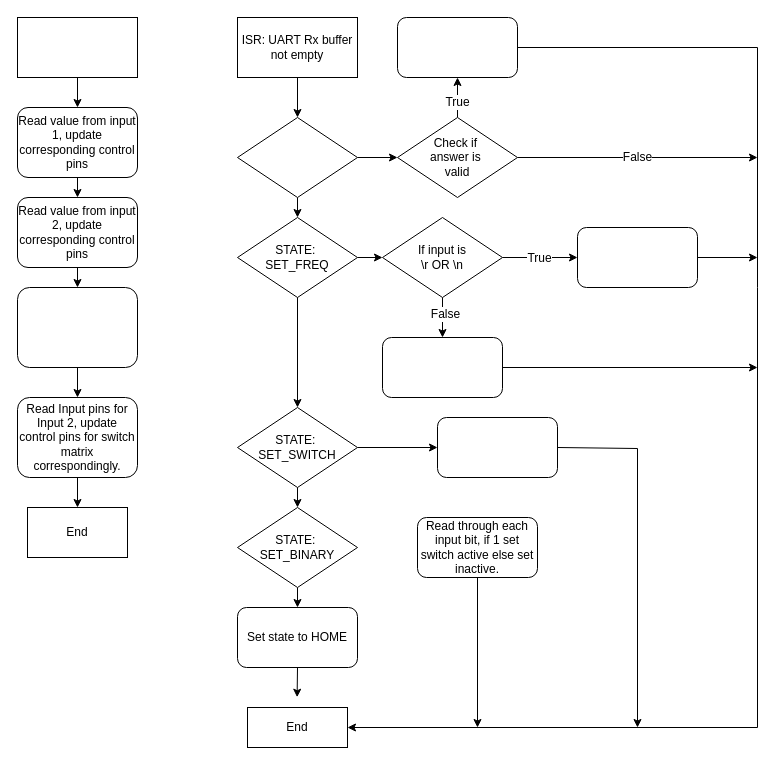
Image size: 783x765. Some labels were removed from this diagram. Here are the shapes that lost their labels. From the top down, the centre of each, then its label:
At pixel 77 47: "ISR: Trigger on rising clock edge".
At pixel 457 47: "Update the state based on the input".
At pixel 297 157: "STATE: HOME".
At pixel 637 257: "Set stored value to wait time. Rest val. to 0 and STATE=HOME".
At pixel 77 327: "update control pins for the output switches, corresponding to input 1 & 2".
At pixel 442 367: "Multiply stored value by 10, Add input value.".
At pixel 497 447: "Update switch, if active set inactive else set active.".
